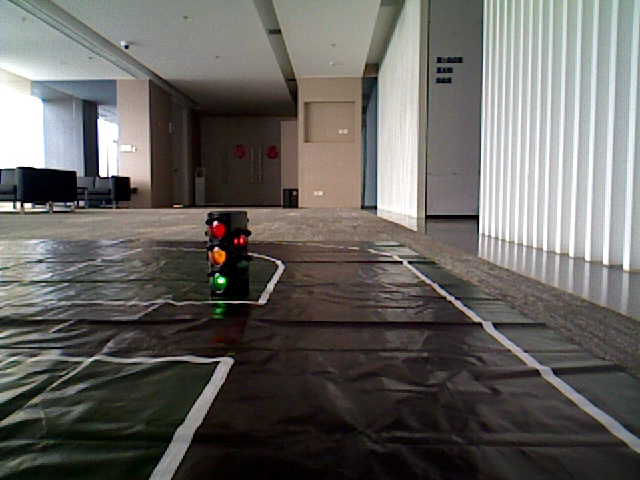green: (207, 214, 233, 288)
